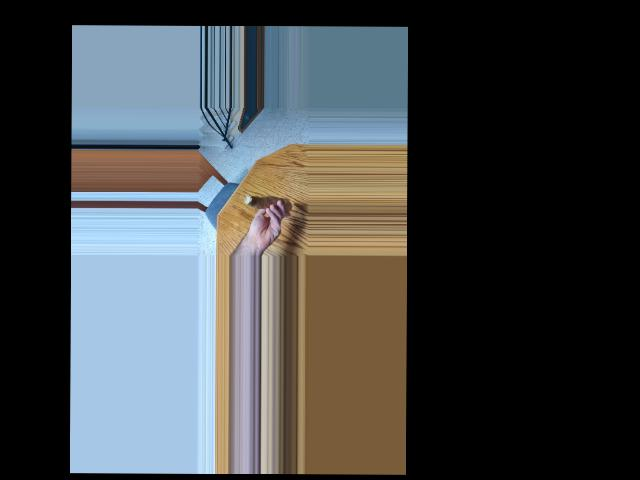sweet_potato: (243, 193, 291, 215)
